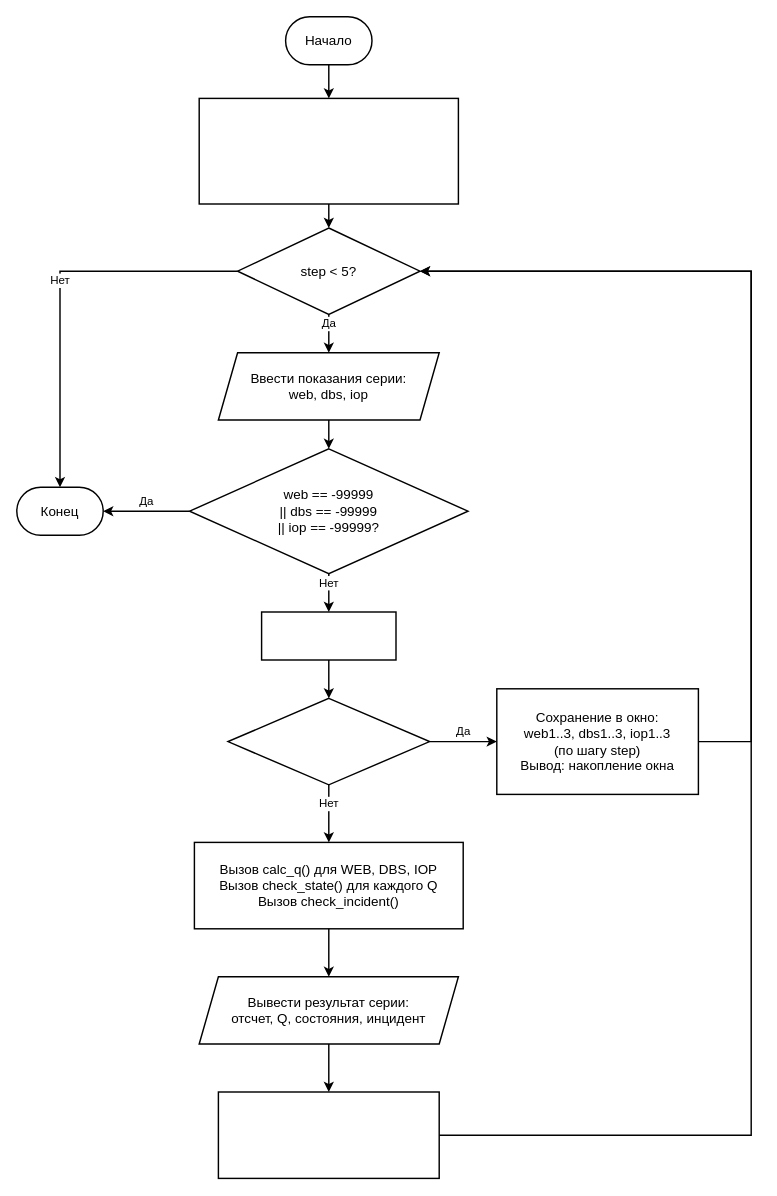
This 777x1196 diagram has some shape labels left out. The centre of each missing label's shape, as x and y in pixels:
"step <= 3?" belongs at point (328, 741).
"step = step + 1" belongs at point (328, 635).
"Инициализация: k = 3, L = 2.0% web1..3 = 0, dbs1..3 = 0, iop1..3 = 0 step = 0" belongs at point (328, 150).
"Сдвиг окна в 3 измерения: w1 = w2; w2 = w3; w3 = curr (для web, dbs, iop)" belongs at point (328, 1135).
